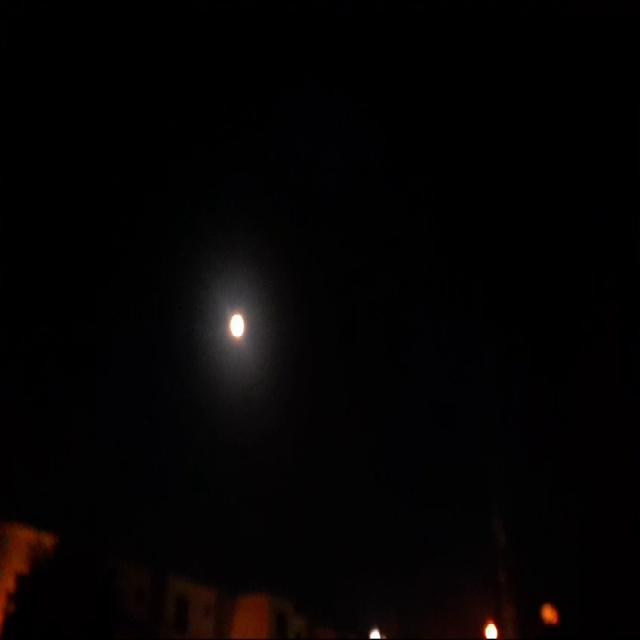moon: (226, 304, 248, 343)
